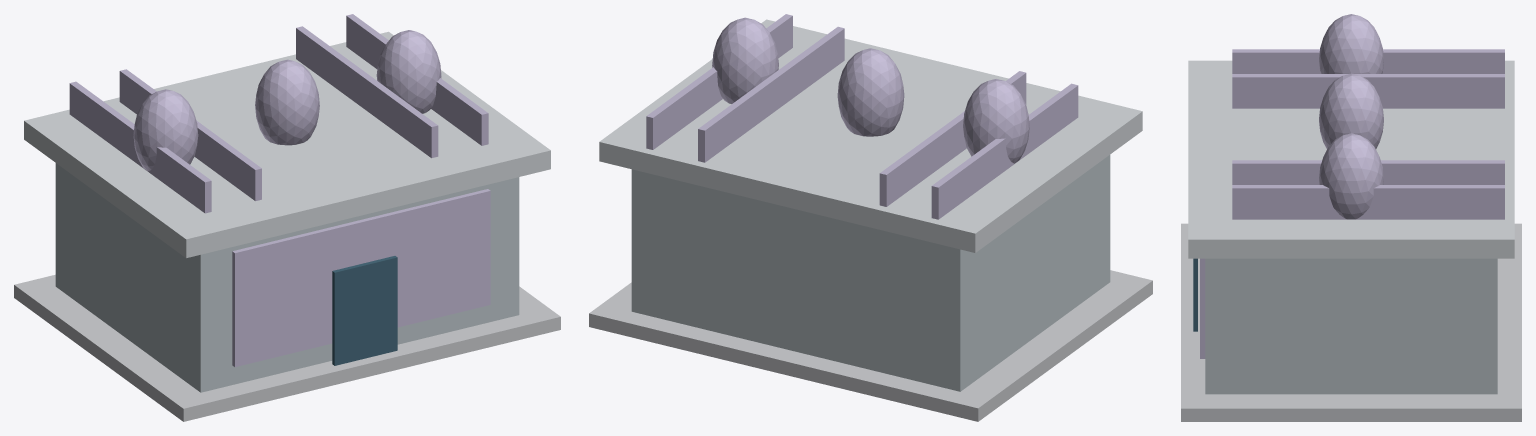
Rendered from crystal-lab.glb.
3 views of the same model, side by side, from view 1: azimuth 30°, elevation 25°; view 2: azimuth 150°, elevation 25°; view 3: azimuth 270°, elevation 25° (orthographic). The views are drawn at different scales.
Parts seen in each view (by area): view 1: Roof_5, Facade_2, Glass_3, Foundation_1, Door_4, RoofFins_8, RoofFins_6, CrystalTop_11, CrystalTop_12, CrystalTop_10, RoofFins_7, RoofFins_9; view 2: Facade_2, Roof_5, Foundation_1, RoofFins_8, RoofFins_6, CrystalTop_11, CrystalTop_12, CrystalTop_10, RoofFins_7, RoofFins_9; view 3: Facade_2, Roof_5, Foundation_1, RoofFins_9, RoofFins_7, RoofFins_8, RoofFins_6, CrystalTop_12, CrystalTop_11, CrystalTop_10, Glass_3, Door_4.
Boxes of the visible parts, x1,y1,x2,y2 form: Roof_5: [24, 31, 550, 258]; Facade_2: [55, 163, 519, 392]; Glass_3: [232, 189, 490, 367]; Foundation_1: [14, 274, 560, 421]; Door_4: [332, 256, 397, 365]; RoofFins_8: [296, 26, 438, 158]; RoofFins_6: [69, 81, 211, 213]; CrystalTop_11: [255, 59, 319, 145]; CrystalTop_12: [376, 30, 441, 113]; CrystalTop_10: [133, 89, 198, 171]; RoofFins_7: [119, 69, 261, 201]; RoofFins_9: [346, 14, 488, 145]; Facade_2: [631, 155, 1110, 391]; Roof_5: [599, 19, 1142, 252]; Foundation_1: [589, 270, 1152, 421]; RoofFins_8: [698, 26, 844, 162]; RoofFins_6: [931, 83, 1078, 219]; CrystalTop_11: [837, 48, 904, 136]; CrystalTop_12: [712, 17, 778, 103]; CrystalTop_10: [963, 79, 1029, 163]; RoofFins_7: [879, 71, 1026, 206]; RoofFins_9: [646, 14, 792, 149]; Facade_2: [1205, 258, 1497, 394]; Roof_5: [1188, 60, 1514, 258]; Foundation_1: [1181, 223, 1521, 421]; RoofFins_9: [1232, 185, 1504, 219]; RoofFins_7: [1232, 74, 1504, 108]; RoofFins_8: [1232, 160, 1504, 184]; RoofFins_6: [1232, 49, 1504, 73]; CrystalTop_12: [1319, 133, 1383, 219]; CrystalTop_11: [1319, 73, 1383, 148]; CrystalTop_10: [1319, 14, 1383, 73]; Glass_3: [1200, 258, 1205, 358]; Door_4: [1193, 258, 1197, 331].
Size of the model in its own units: 9 by 5.75 by 7.
